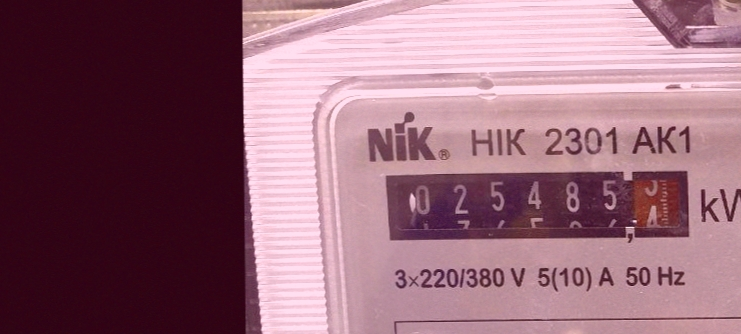0: (412, 183, 434, 218)
2: (451, 183, 472, 218)
4: (524, 179, 545, 213), (643, 204, 663, 232)
5: (599, 178, 621, 215), (487, 179, 508, 215)
8: (563, 179, 584, 217)
screen: (377, 164, 699, 254)
